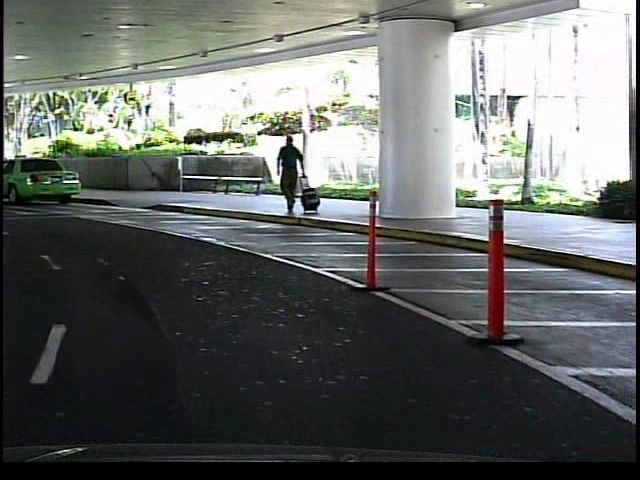person: (274, 128, 311, 219)
